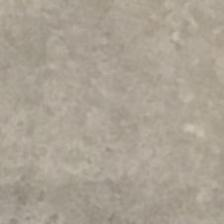Non_Crack: (18, 50, 194, 181)
